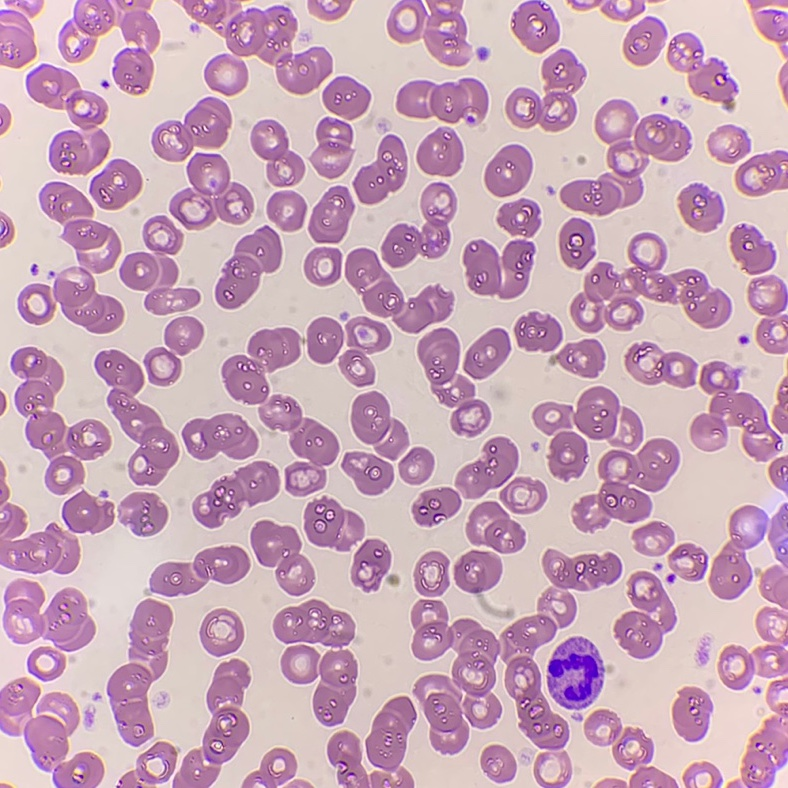RBC: (571, 233, 730, 332), (561, 99, 689, 214), (11, 347, 110, 494), (182, 0, 332, 93), (40, 182, 122, 333), (411, 600, 500, 727), (95, 351, 178, 484), (173, 660, 249, 787), (575, 439, 678, 530), (107, 600, 172, 744), (345, 248, 453, 332), (503, 615, 568, 750), (691, 362, 777, 460), (120, 216, 199, 314), (418, 328, 489, 435), (264, 396, 338, 495), (0, 482, 79, 573), (584, 710, 676, 787), (506, 50, 584, 130), (5, 580, 94, 650), (170, 154, 253, 228), (382, 183, 455, 266), (222, 328, 299, 403), (193, 461, 278, 526), (215, 227, 281, 308), (387, 0, 467, 65), (615, 572, 674, 658), (668, 33, 734, 109), (28, 65, 106, 129), (152, 98, 230, 160), (251, 521, 313, 595), (533, 387, 618, 439), (366, 697, 415, 787), (113, 0, 158, 93), (397, 78, 487, 124), (415, 675, 468, 752), (463, 240, 533, 298), (547, 637, 602, 708), (145, 317, 202, 385), (25, 693, 78, 765), (456, 437, 517, 498), (351, 392, 407, 458), (274, 600, 354, 646), (354, 135, 406, 203), (339, 317, 390, 385), (251, 120, 304, 185), (183, 414, 257, 459), (313, 650, 357, 725), (625, 342, 695, 386), (543, 550, 620, 590), (742, 720, 787, 787), (748, 276, 787, 353), (305, 499, 363, 550), (466, 502, 524, 552), (710, 532, 752, 599), (90, 159, 141, 209), (49, 131, 109, 173), (120, 742, 176, 787), (309, 187, 353, 242), (312, 118, 352, 177), (511, 1, 558, 51), (485, 145, 531, 195), (327, 732, 368, 787), (736, 151, 787, 195), (464, 329, 509, 378), (417, 127, 462, 175), (343, 452, 393, 494), (731, 225, 774, 273), (119, 492, 167, 535), (243, 748, 295, 787), (623, 17, 665, 65), (0, 679, 38, 732), (673, 687, 711, 740), (62, 493, 113, 532), (194, 547, 249, 583), (200, 609, 243, 655), (680, 184, 722, 231), (454, 551, 501, 593), (351, 539, 390, 589), (323, 77, 369, 118), (555, 339, 604, 377), (413, 487, 460, 525), (515, 312, 561, 350), (549, 431, 586, 478), (559, 218, 593, 267), (500, 478, 546, 513), (56, 753, 103, 787), (205, 56, 247, 94), (151, 563, 200, 595), (307, 318, 342, 362), (0, 24, 35, 67), (267, 191, 305, 230), (708, 125, 748, 162), (499, 199, 539, 236), (719, 646, 754, 688), (415, 552, 448, 595), (281, 645, 317, 683), (75, 0, 114, 35), (19, 284, 54, 323), (669, 544, 706, 580), (633, 522, 673, 555), (305, 248, 341, 284), (399, 447, 433, 484), (538, 591, 575, 625), (481, 745, 515, 781), (534, 753, 570, 787), (28, 647, 64, 679), (61, 29, 94, 61), (757, 608, 787, 643), (761, 567, 787, 607), (756, 645, 787, 676), (759, 11, 787, 41), (621, 409, 642, 448), (308, 0, 336, 19), (770, 457, 787, 485), (770, 509, 787, 537), (0, 213, 13, 246), (773, 405, 787, 432), (775, 546, 787, 565), (598, 779, 626, 787), (603, 0, 616, 16), (371, 773, 384, 787), (0, 105, 9, 124), (631, 0, 644, 13), (4, 13, 22, 22), (740, 506, 755, 516), (751, 0, 771, 7), (338, 0, 350, 11), (778, 391, 787, 403), (685, 770, 694, 779), (0, 395, 5, 410), (477, 48, 485, 57), (782, 79, 787, 93), (776, 680, 784, 688), (778, 705, 786, 713), (702, 763, 710, 771), (729, 782, 740, 787), (782, 66, 787, 76), (0, 468, 4, 479), (779, 0, 787, 5), (290, 783, 298, 787)
